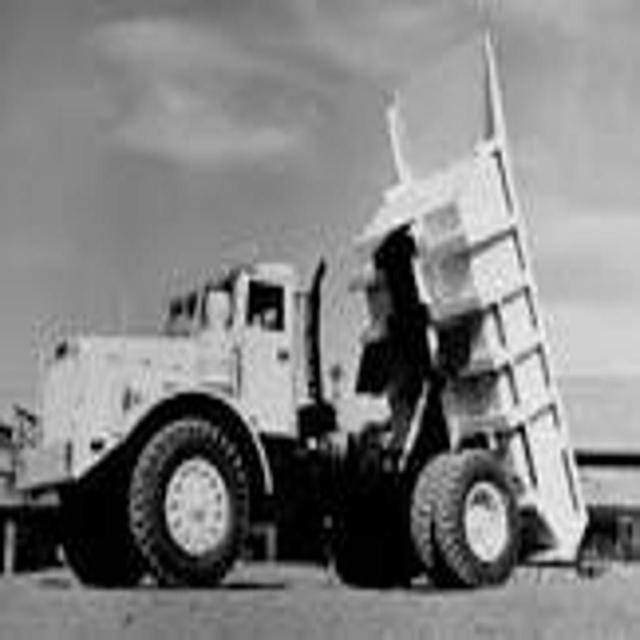dump_truck: (9, 21, 590, 600)
